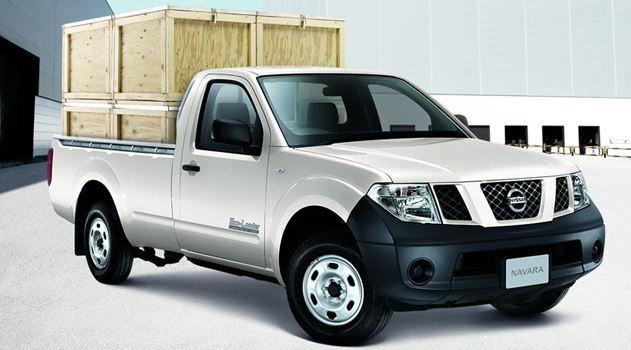pickup: (43, 65, 609, 347)
